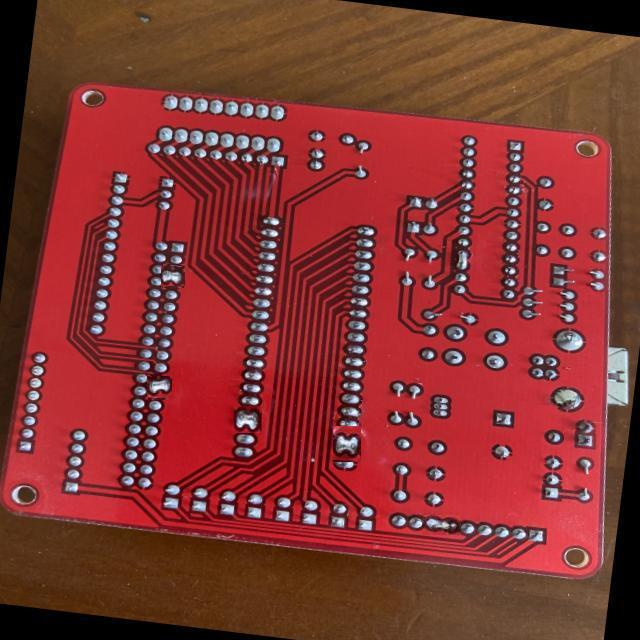damged: (331, 428, 364, 460), (422, 514, 462, 535), (234, 406, 262, 433), (147, 375, 171, 399), (162, 265, 185, 287), (453, 248, 473, 271)
